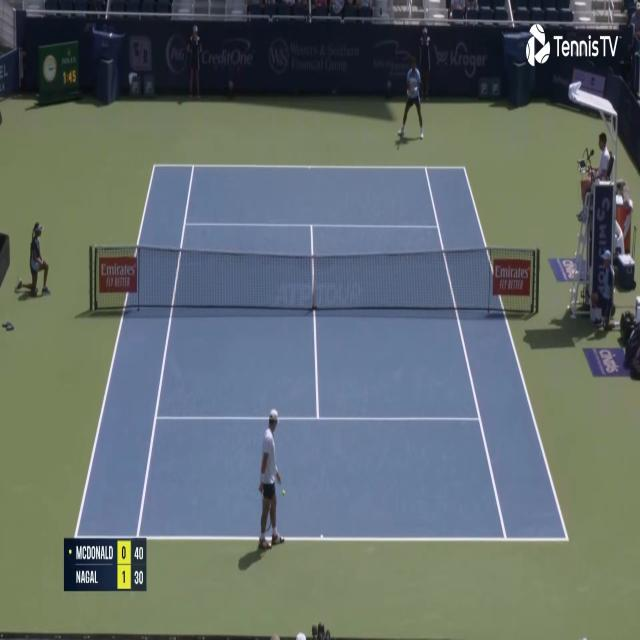tennis-player: (254, 405, 288, 556), (397, 53, 427, 142)
